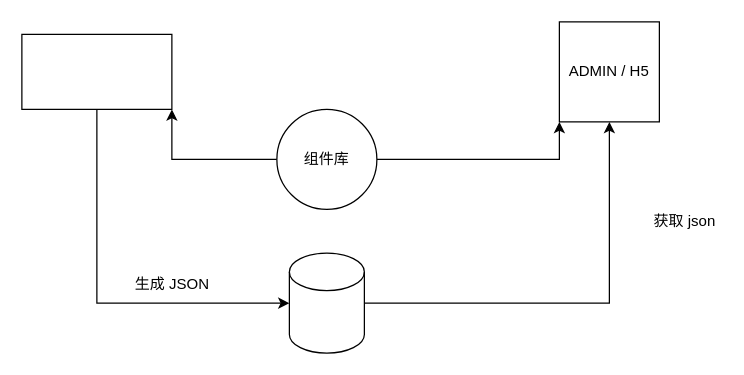
The diagram is 744 pixels wide and 375 high, and some of its shapes have lost their labels. The shapes that lost their labels are listed below. From the top down, each one's centre as x and y in pixels, then its label:
At pixel 96 71: "edit-FE".
At pixel 326 302: "DB".
